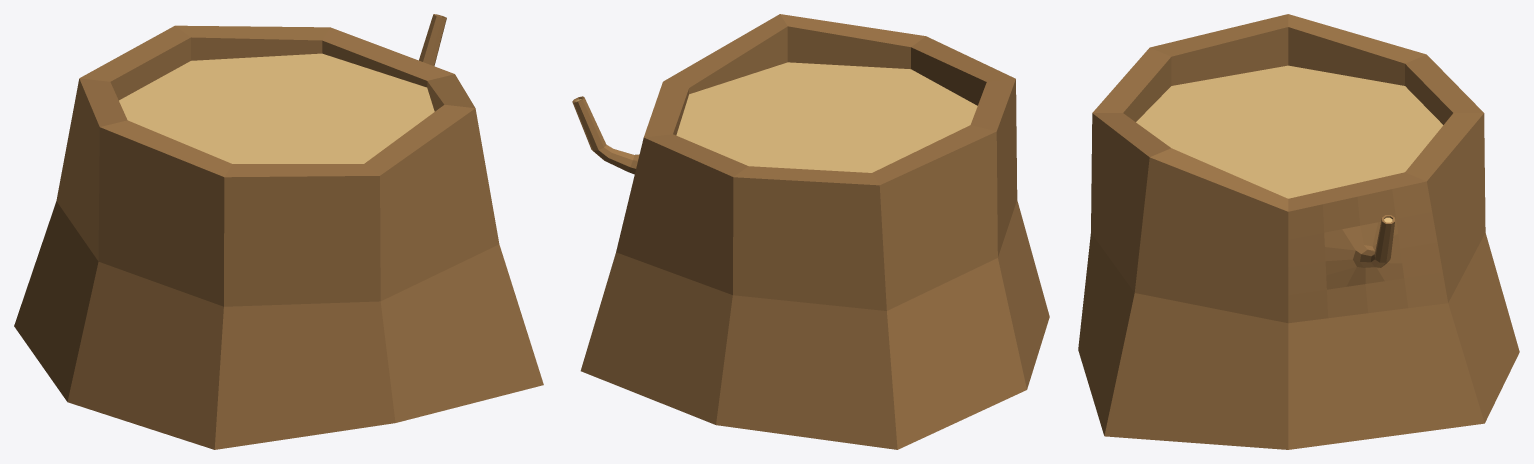
File: Root Table.glb
3 renders of one model, left to right at view 1: azimuth 30°, elevation 25°; view 2: azimuth 150°, elevation 25°; view 3: azimuth 270°, elevation 25°, orthographic. The views are drawn at different scales.
Visible parts, largest first — view 1: Cylinder; view 2: Cylinder; view 3: Cylinder.
Boxes of the visible parts, <box> form: Cylinder: <box>14,14,543,449</box>; Cylinder: <box>572,14,1049,449</box>; Cylinder: <box>1078,14,1519,449</box>.
Size of the model in its own units: 1.02 by 0.6163 by 0.9479.
